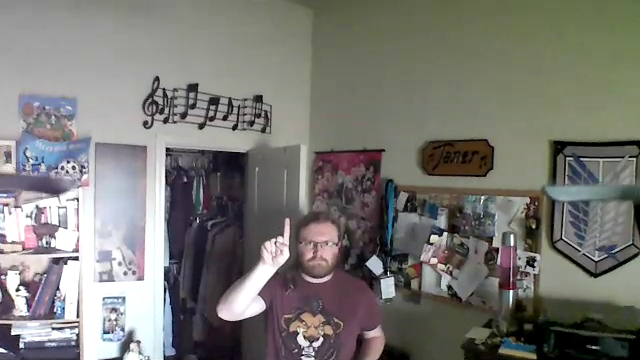up: (259, 214, 295, 274)
